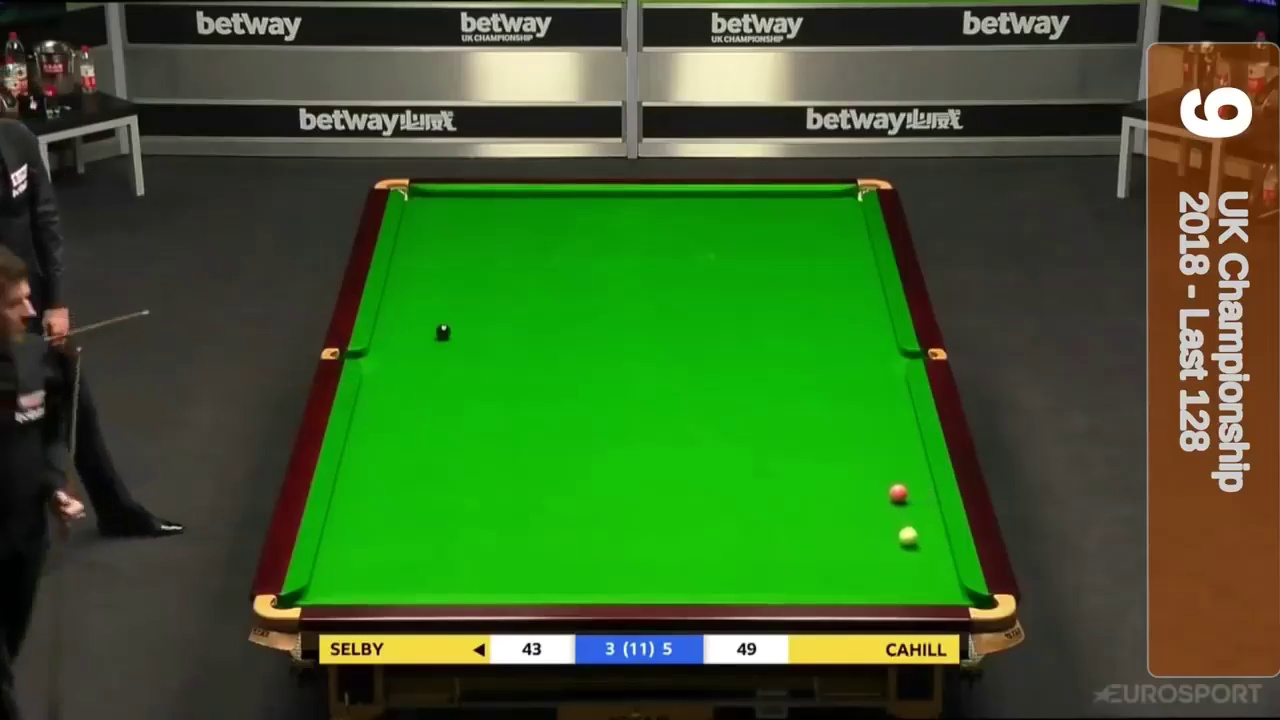ball: (890, 482, 908, 502), (434, 323, 451, 340)
